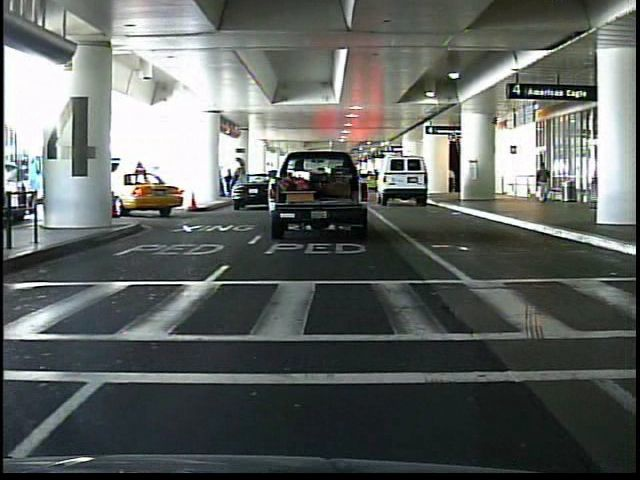person: (532, 157, 553, 208), (445, 164, 459, 197)
